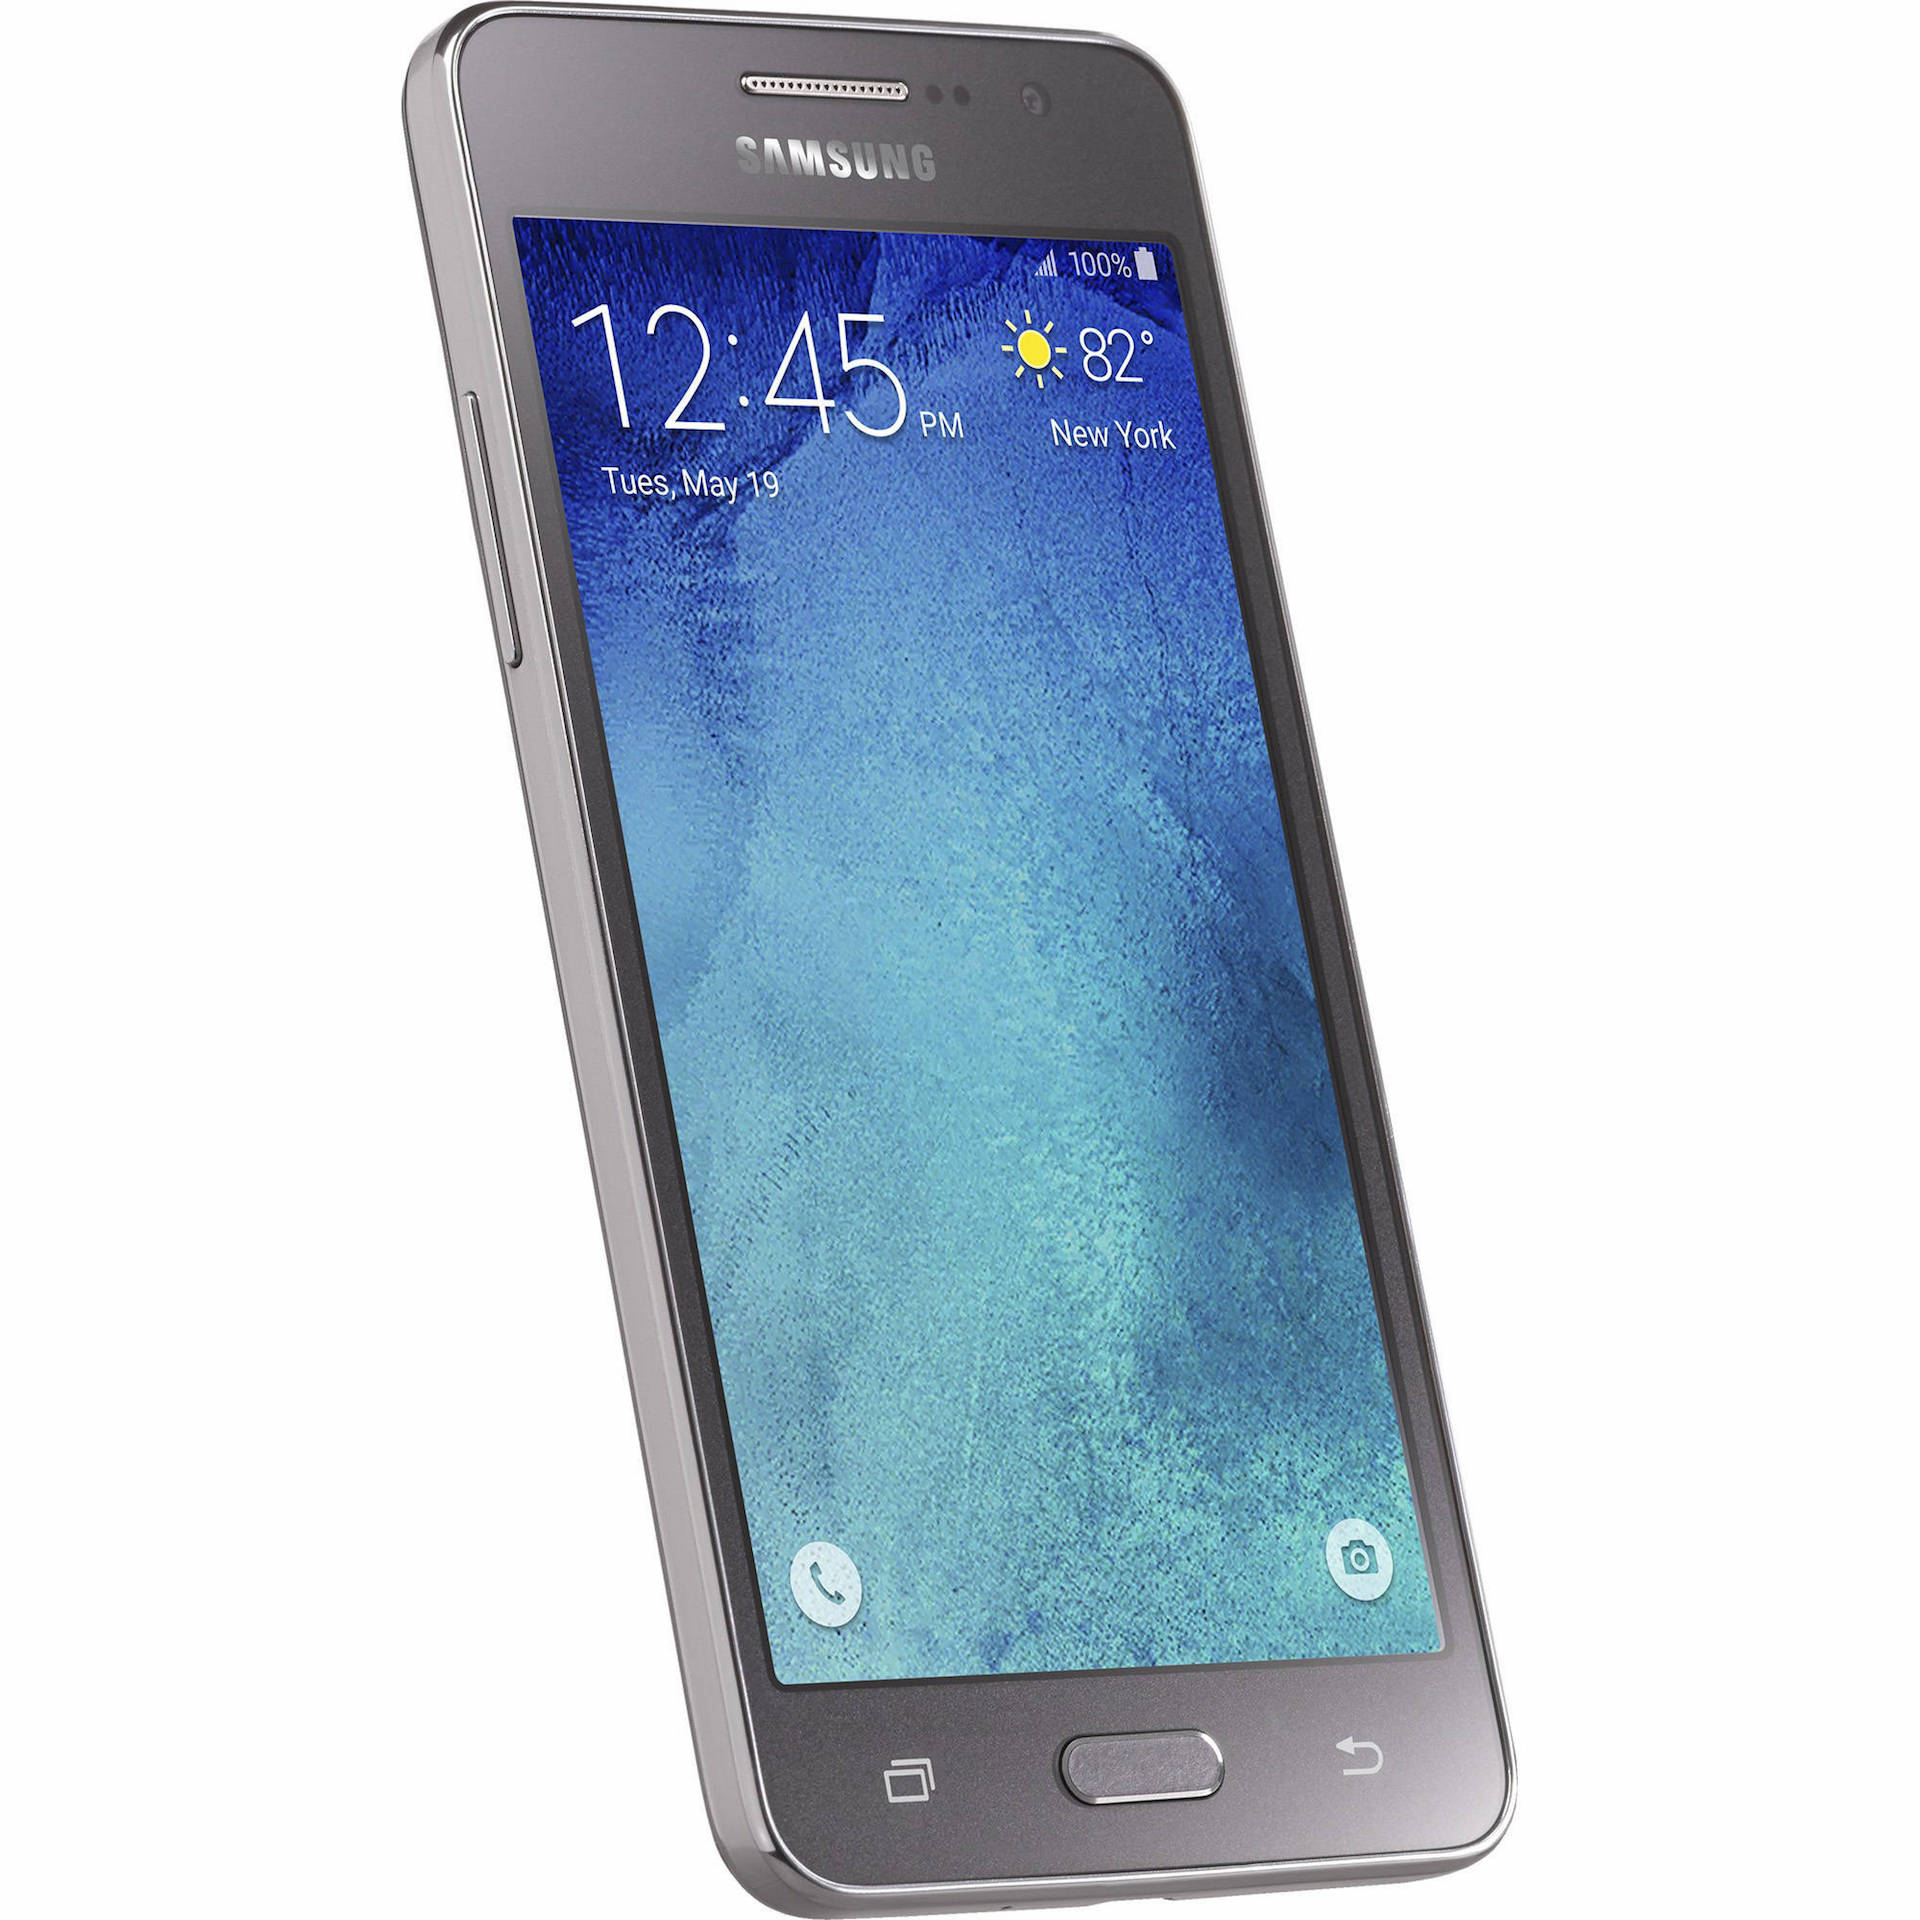smartphone: (397, 5, 1530, 1920)
